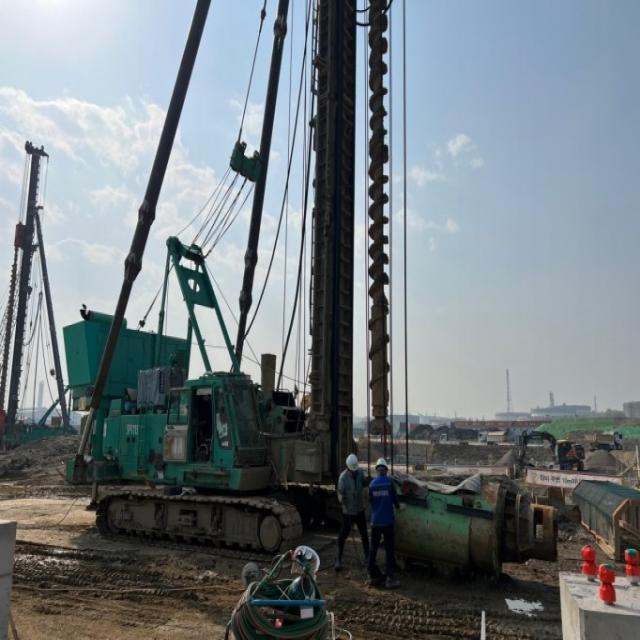pile: (369, 0, 391, 434), (0, 253, 19, 411)
